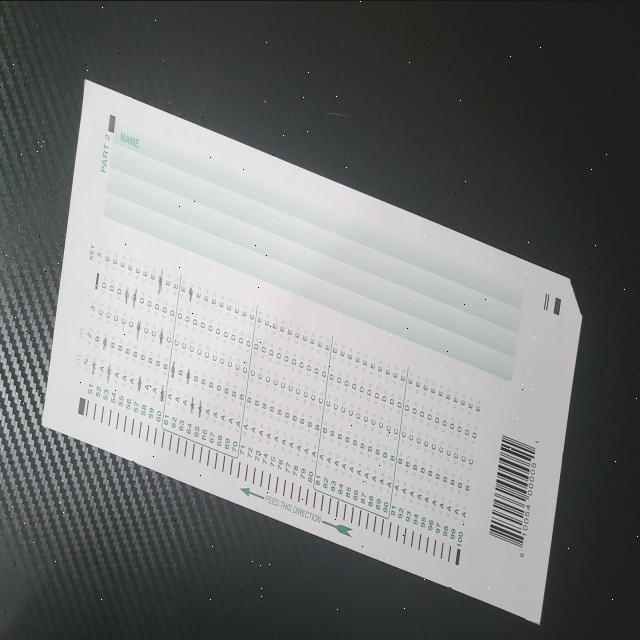scantron_back: (41, 75, 582, 623)
